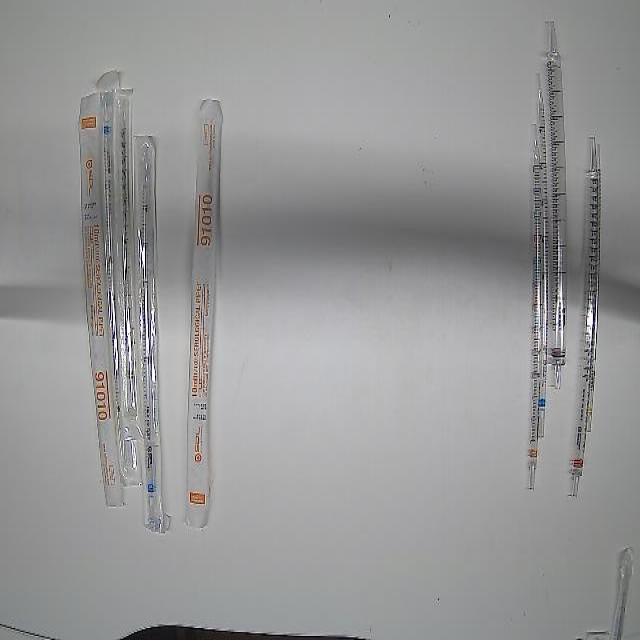Serelogical Pipet 1 mL: (580, 153, 606, 434)
Serelogical Pipet 10 mL: (180, 93, 230, 536), (76, 88, 125, 510), (527, 119, 542, 494)
Serelogical Pipet 2 mL - Sealed: (112, 83, 145, 443)
Serelogical Pipet 25 mL: (567, 138, 602, 498)
Serelogical Pipet 5 mL: (534, 72, 548, 440)
Serelogical Pipet 5 mL - Sealed: (93, 68, 143, 488), (133, 133, 175, 534)
Serelogical Pipet 50 mL: (542, 12, 570, 390)
